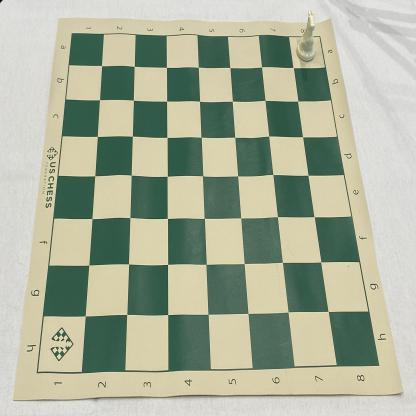white-knight: (295, 10, 317, 63)
